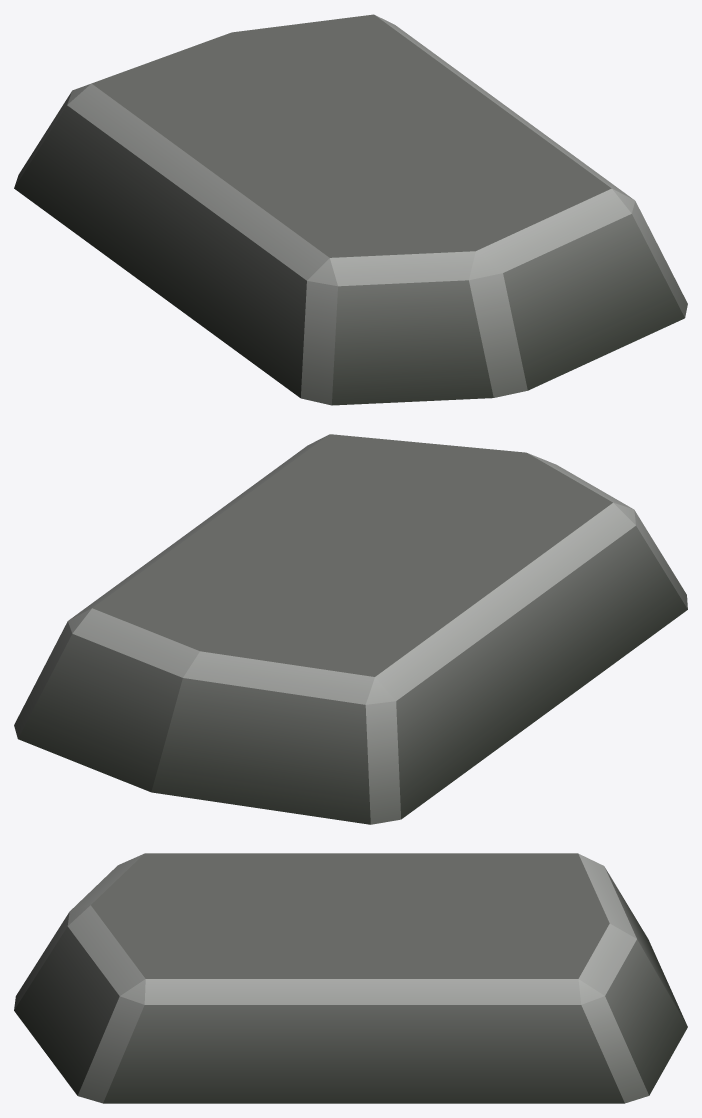
File: Roadstones-1-4.fbx
The picture shows the model from 3 angles, top to bottom: view 1: azimuth 30°, elevation 25°; view 2: azimuth 150°, elevation 25°; view 3: azimuth 270°, elevation 25°; orthographic projection. The views are drawn at different scales.
Parts seen in each view (by area): view 1: Roadstones-1-4; view 2: Roadstones-1-4; view 3: Roadstones-1-4.
Part boxes in pixels (box(x1,y1,x2,y2)): Roadstones-1-4: box(14, 14, 687, 405); Roadstones-1-4: box(14, 434, 687, 824); Roadstones-1-4: box(14, 853, 687, 1103).
Size of the model in its own units: 65.7 by 18.02 by 109.
